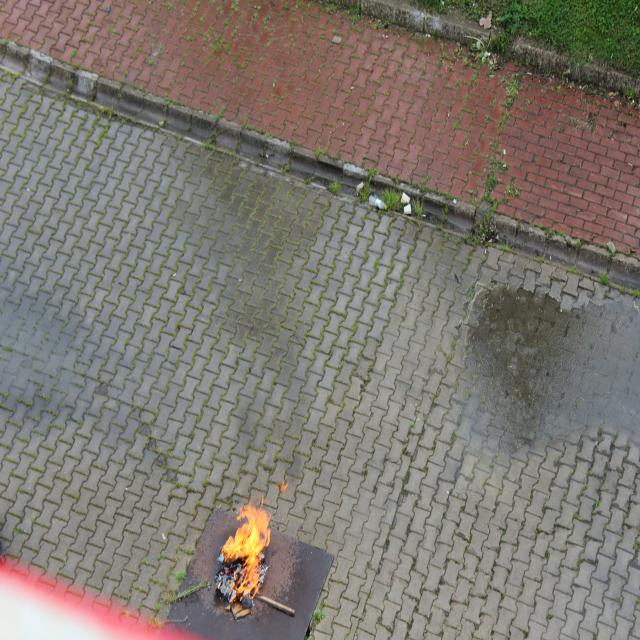fire: (214, 506, 274, 606)
